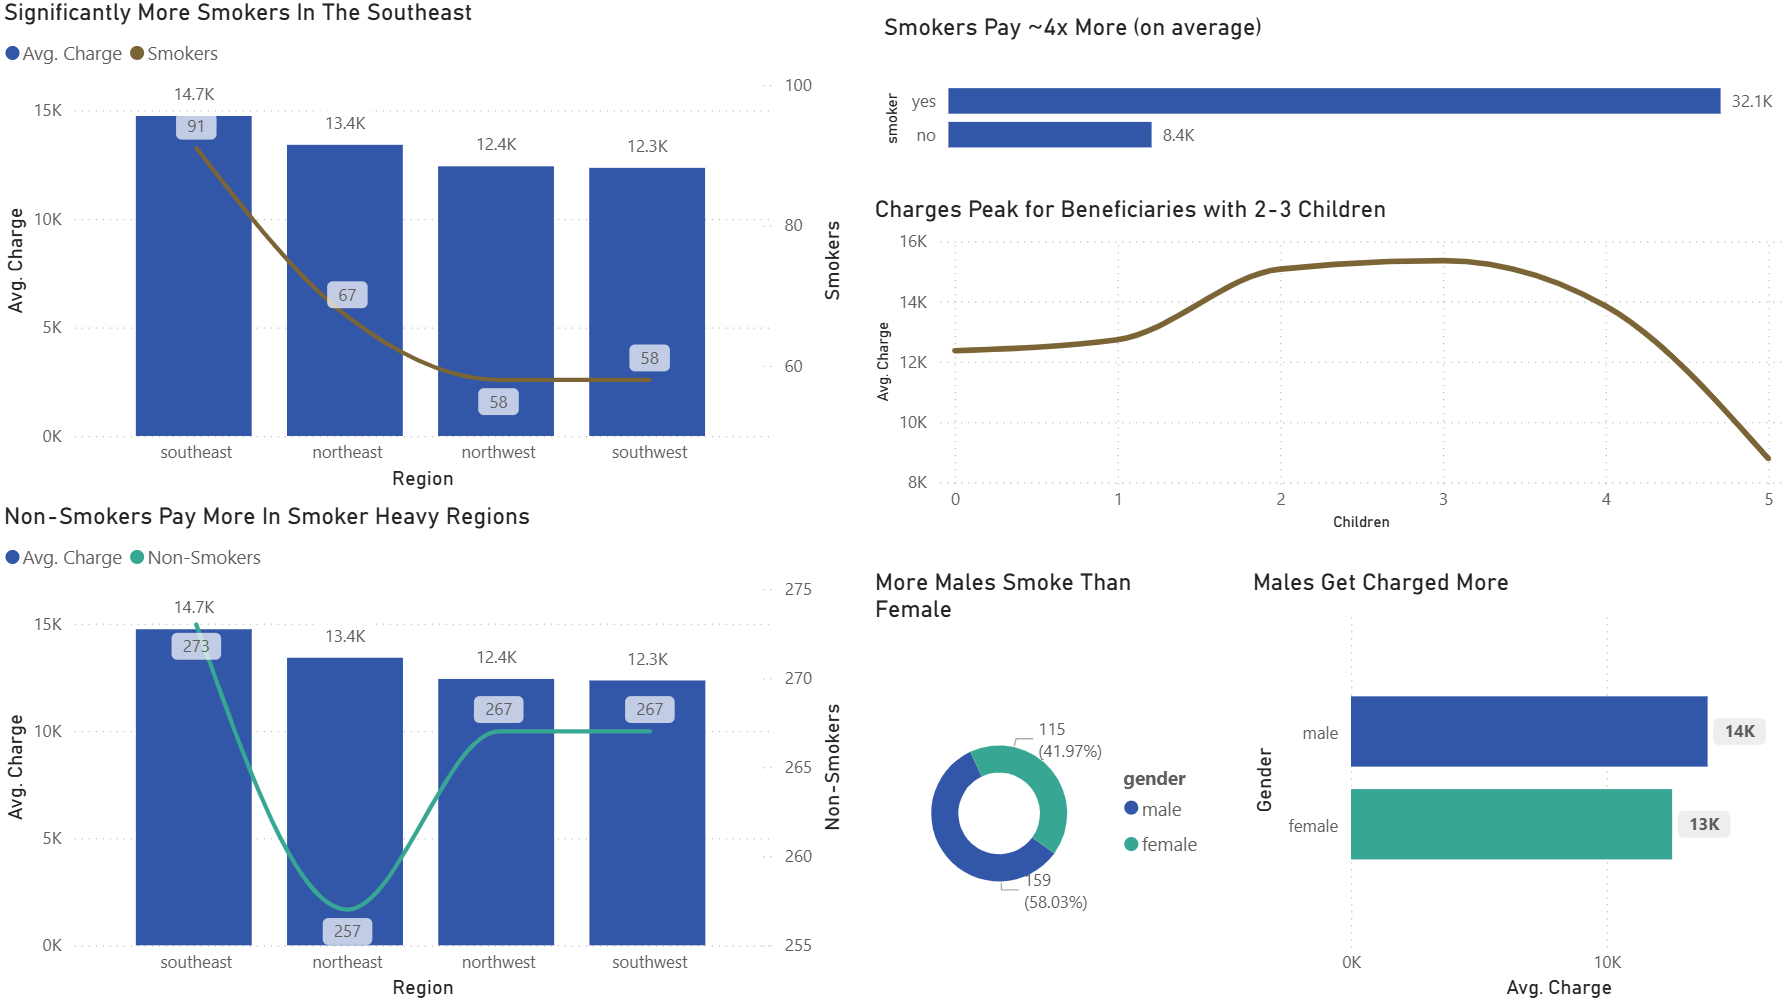

The page's visual inventory and layout, read from the dashboard file:
{"tool":"powerbi","page":{"name":"Page 1","canvas":[1280,720],"ordinal":0},"visuals":[{"type":"barChart","title":"Males Get Charged More","fields":{"Category":["average_charges_by_gender.gender"],"Y":["Sum(average_charges_by_gender.charges)"]},"box":[892.4,407.4,387.6,312.6],"z":0},{"type":"lineChart","title":"Charges Peak for Beneficiaries with 2-3 Children","fields":{"Category":["average_charges_by_child_count.children"],"Y":["Avg(average_charges_by_child_count.charges)"]},"box":[621.9,140.8,658.1,244.2],"z":1000},{"type":"donutChart","title":"More Males Smoke Than Female","fields":{"Category":["smoke_count_by_gender.gender"],"Y":["Sum(smoke_count_by_gender.count)"]},"box":[621.9,407.4,251.4,312.6],"z":2000},{"type":"lineStackedColumnComboChart","title":"Significantly More Smokers In The Southeast","fields":{"Category":["average_charges_by_Region.region"],"Y":["Sum(average_charges_by_Region.charges)"],"Y2":["Sum(smoke_count_by_region.count)"]},"box":[0,0,608.5,356.2],"z":3000},{"type":"lineStackedColumnComboChart","title":"Non-Smokers Pay More In Smoker Heavy Regions","fields":{"Y2":["Sum(Non_smoker_count_by_region.count)"],"Category":["Non_smoker_count_by_region.region"],"Y":["Avg(insurance.charges)"]},"box":[0,360,608.7,360],"z":4000},{"type":"clusteredBarChart","title":"Smokers Pay ~4x More (on average)","fields":{"Category":["insurance.smoker"],"Y":["Avg(insurance.charges)"]},"box":[628.5,10.5,651.5,123.7],"z":5000}]}

Visuals, with their boxes in screenshot pixels (x1, y1, x2, y2), scaled from the page's 1280x720 canvas onto the 1786x1000 screenshot:
"Males Get Charged More" barChart: crop(1245, 566, 1785, 999)
"Charges Peak for Beneficiaries with 2-3 Children" lineChart: crop(868, 196, 1785, 535)
"More Males Smoke Than Female" donutChart: crop(868, 566, 1219, 999)
"Significantly More Smokers In The Southeast" lineStackedColumnComboChart: crop(0, 0, 849, 495)
"Non-Smokers Pay More In Smoker Heavy Regions" lineStackedColumnComboChart: crop(0, 500, 849, 999)
"Smokers Pay ~4x More (on average)" clusteredBarChart: crop(877, 15, 1785, 186)
